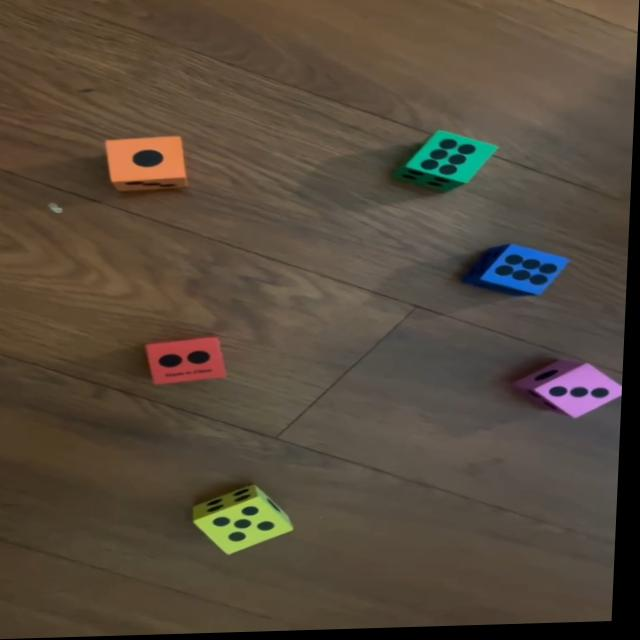cube: (389, 131, 503, 195), (462, 244, 575, 303), (146, 334, 232, 388)
